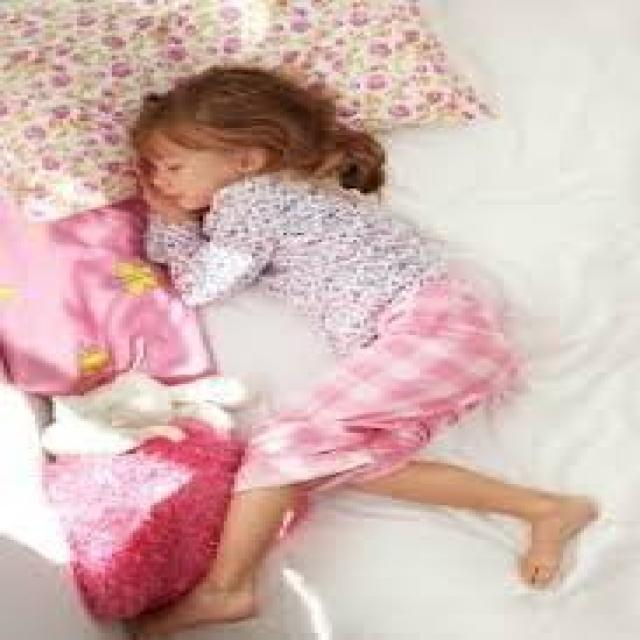sleeping-person: (105, 68, 612, 640)
